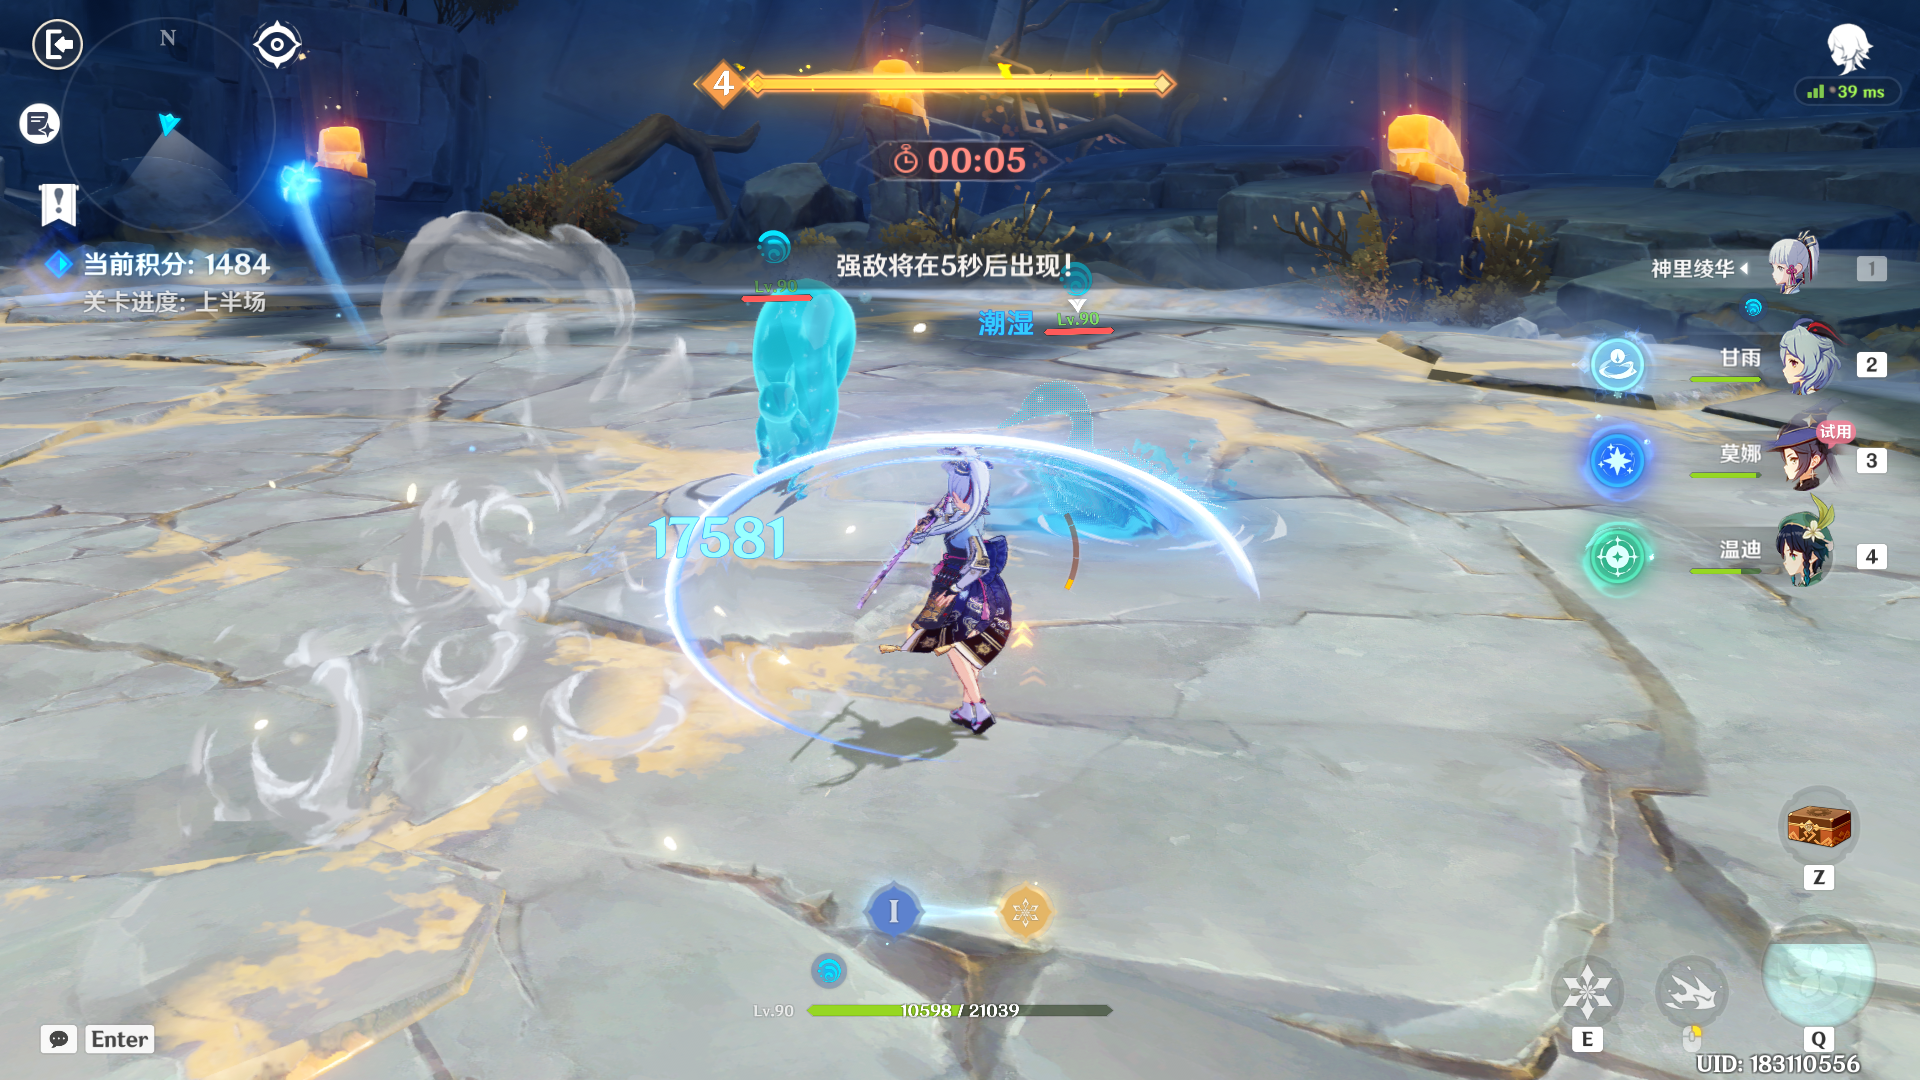character: (789, 425, 1073, 760)
